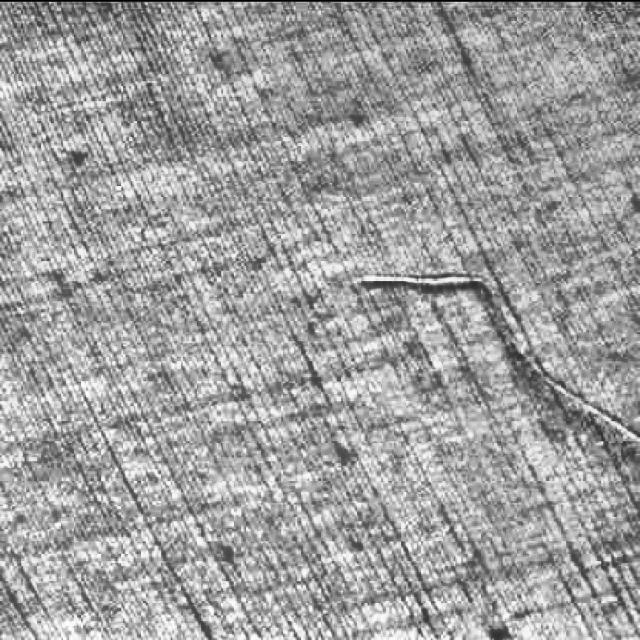objects: (346, 260, 640, 466)
